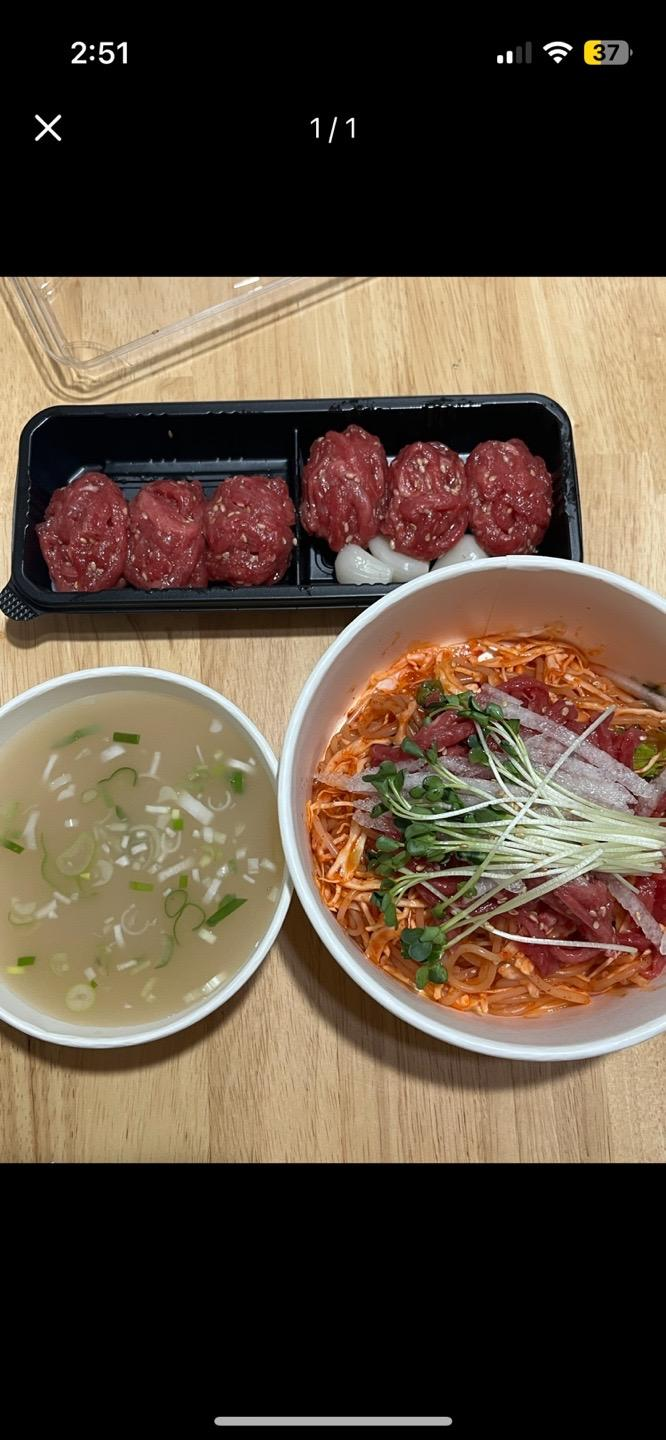Lunch Box: (279, 557, 665, 1060), (0, 395, 581, 620), (0, 667, 291, 1048), (0, 276, 366, 398)
